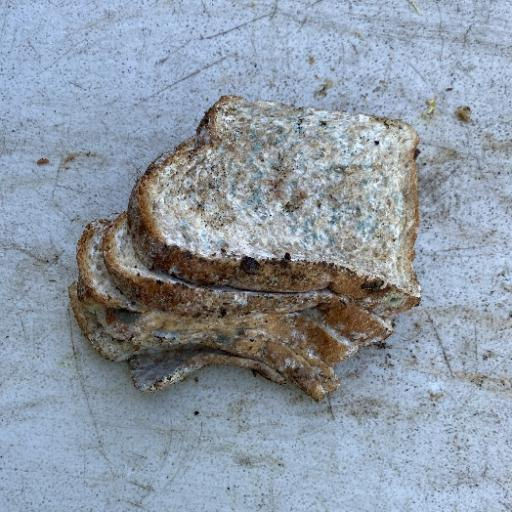Waste: (67, 93, 424, 402)
